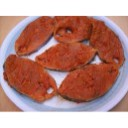seerfish: (3, 55, 56, 100), (63, 63, 119, 99), (36, 42, 97, 70), (91, 20, 126, 67), (13, 17, 54, 56), (53, 16, 93, 44)
